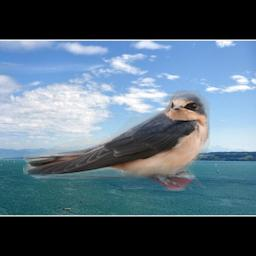Swallow: (23, 89, 210, 191)
